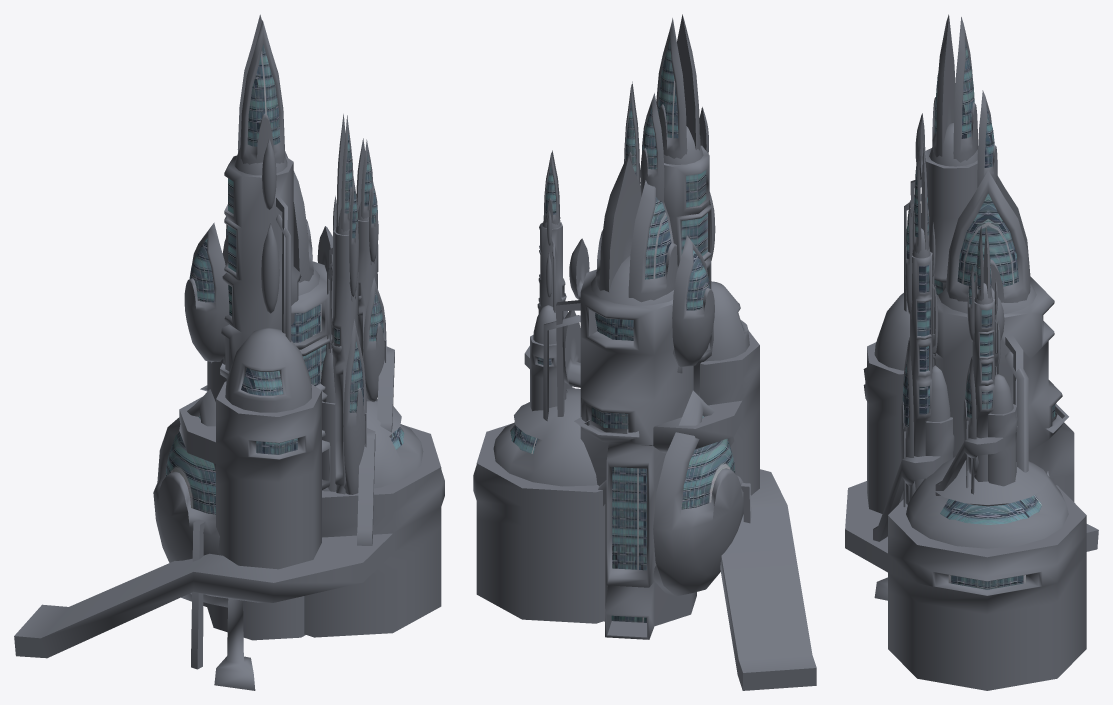
The picture shows the model from 3 angles, left to right: view 1: azimuth 30°, elevation 25°; view 2: azimuth 150°, elevation 25°; view 3: azimuth 270°, elevation 25°; orthographic projection. The views are drawn at different scales.
Visible parts, largest first — view 1: tri_colonial_sector; view 2: tri_colonial_sector; view 3: tri_colonial_sector.
Part boxes in pixels (box(x1,y1,x2,y2)): tri_colonial_sector: box(14, 14, 444, 690); tri_colonial_sector: box(473, 14, 816, 690); tri_colonial_sector: box(845, 14, 1098, 690).
Size of the model in its own units: 224 by 346 by 132.
